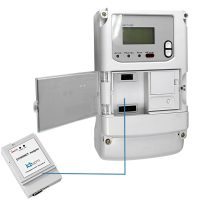counter: (98, 4, 188, 149)
counter_screen: (121, 25, 155, 45)
